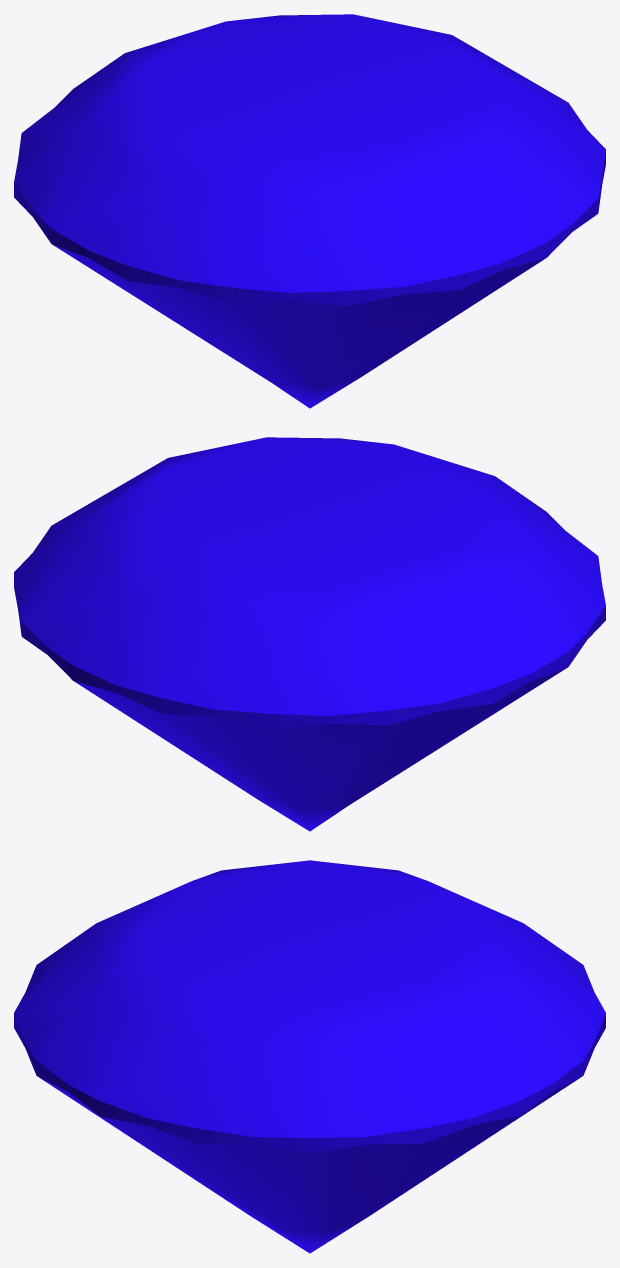
The model's file is Diamond.fbx.
The picture shows the model from 3 angles, top to bottom: view 1: azimuth 30°, elevation 25°; view 2: azimuth 150°, elevation 25°; view 3: azimuth 270°, elevation 25°; orthographic projection.
Parts seen in each view (by area): view 1: Diamond_Low; view 2: Diamond_Low; view 3: Diamond_Low.
Boxes of the visible parts, bbox=[...] form: Diamond_Low: bbox=[14, 14, 605, 408]; Diamond_Low: bbox=[14, 437, 605, 831]; Diamond_Low: bbox=[14, 860, 605, 1253].
Size of the model in its own units: 34.51 by 34.51 by 20.77.
